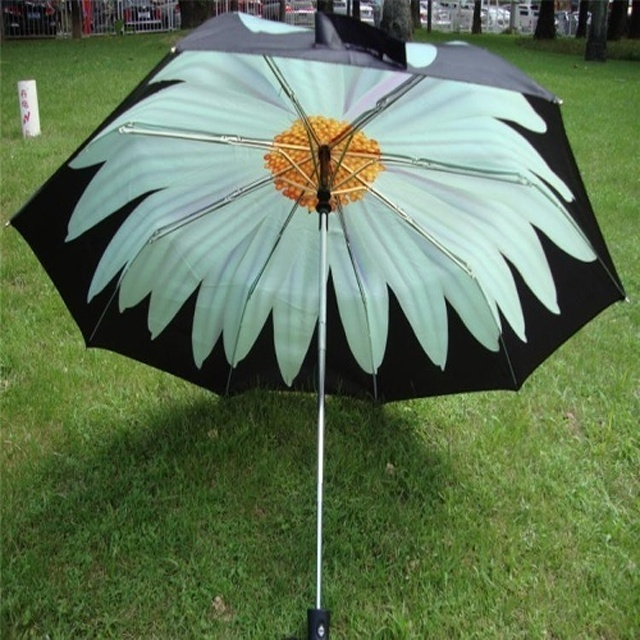umbrella: (1, 4, 630, 640)
